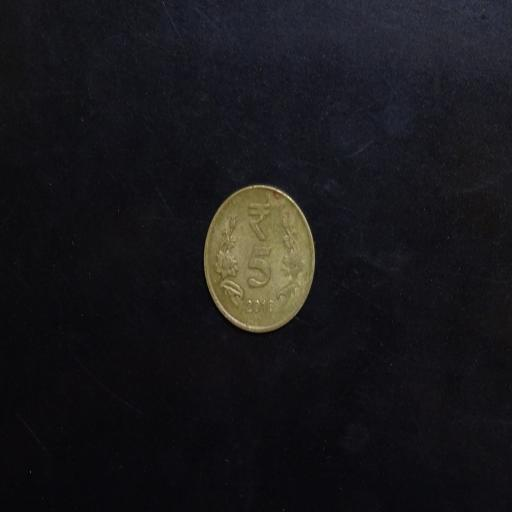rupee5: (203, 184, 316, 332)
